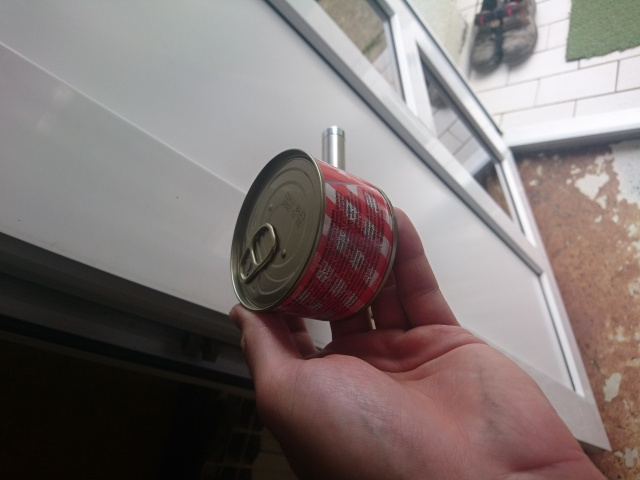Podravka Luncheon Meat 150g: (226, 145, 402, 325)
